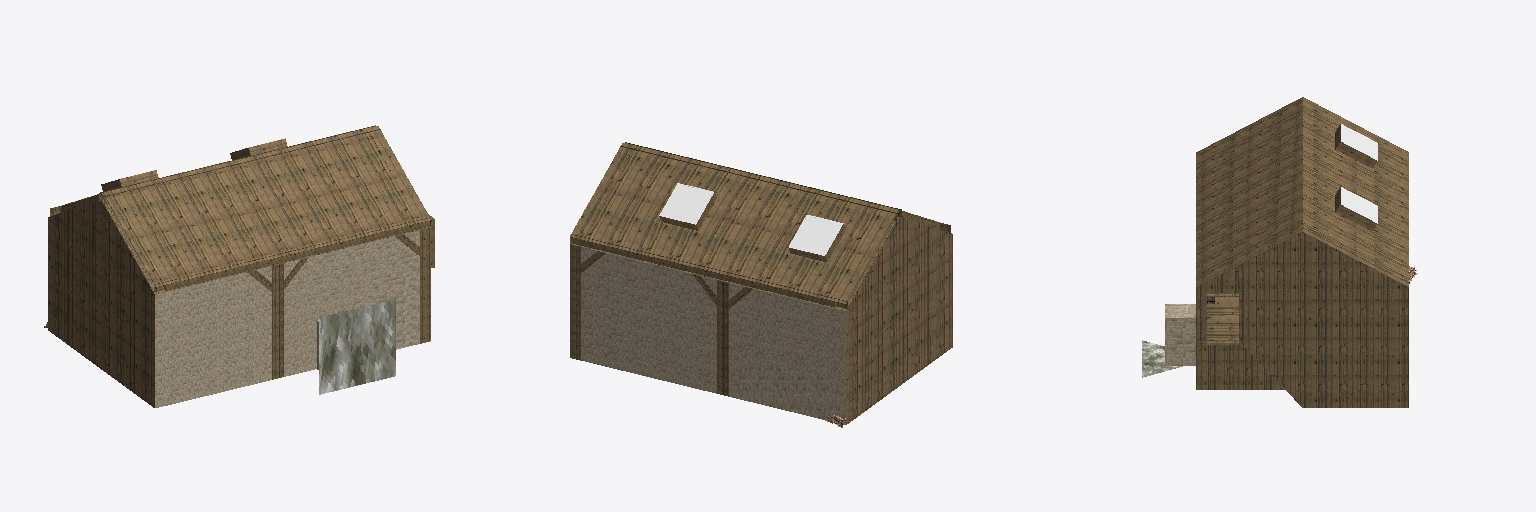
3 renders of one model, left to right at view 1: azimuth 30°, elevation 25°; view 2: azimuth 150°, elevation 25°; view 3: azimuth 270°, elevation 25°, orthographic.
Visible parts, largest first — view 1: ob_[number redacted]_opa, ob_03000AC8_opa, ob_03000A68_opa, ob_03001E80_opa, ob_030009B8_opa, ob_03000C08_opa; view 2: ob_03000AC8_opa, ob_[number redacted]_opa, ob_03000A68_opa, ob_03001E80_opa, ob_03009EE8_xlu, ob_03009E90_xlu; view 3: ob_[number redacted]_opa, ob_03000BA8_opa, ob_03004FE0_opa, ob_03000A08_opa, ob_[number redacted]_opa, ob_[number redacted]_opa, ob_03009EE8_xlu, ob_03009E90_xlu, ob_[number redacted]_opa.
Part boxes in pixels (x1,y1,x2,y2): ob_[number redacted]_opa: (52,126,430,286); ob_03000AC8_opa: (155,230,419,407); ob_03000A68_opa: (48,200,154,407); ob_03001E80_opa: (50,125,434,379); ob_030009B8_opa: (319,299,395,394); ob_03000C08_opa: (284,258,316,375); ob_03000AC8_opa: (581,247,845,424); ob_[number redacted]_opa: (570,143,946,303); ob_03000A68_opa: (846,217,952,424); ob_03001E80_opa: (570,142,950,396); ob_03009EE8_xlu: (789,215,843,255); ob_03009E90_xlu: (659,183,713,224); ob_[number redacted]_opa: (1196,97,1408,286); ob_03000BA8_opa: (1197,232,1408,407); ob_03004FE0_opa: (1196,323,1284,389); ob_03000A08_opa: (1165,304,1195,365); ob_[number redacted]_opa: (1142,340,1182,377); ob_[number redacted]_opa: (1207,297,1238,322); ob_03009EE8_xlu: (1341,124,1377,160); ob_03009E90_xlu: (1341,187,1377,223); ob_[number redacted]_opa: (1196,287,1206,340).
Size of the model in its own units: 620 by 371 by 518.
Materials: 16 (16 with a texture image).